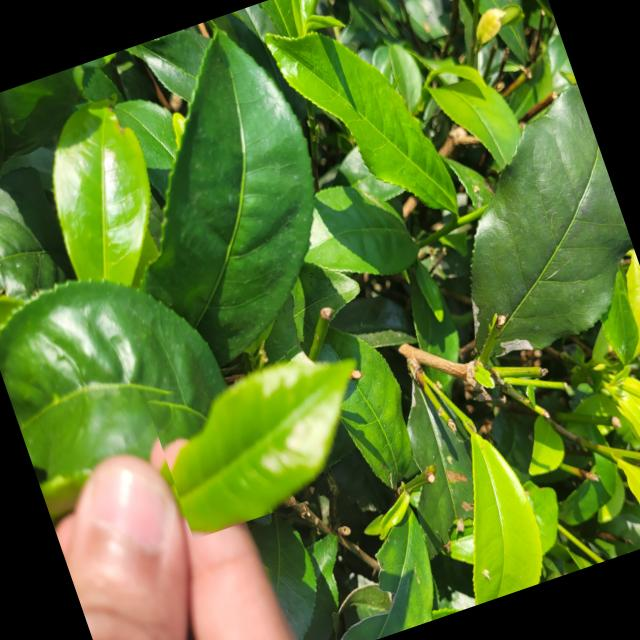Catagory A(1-2 days): (140, 318, 398, 540)
